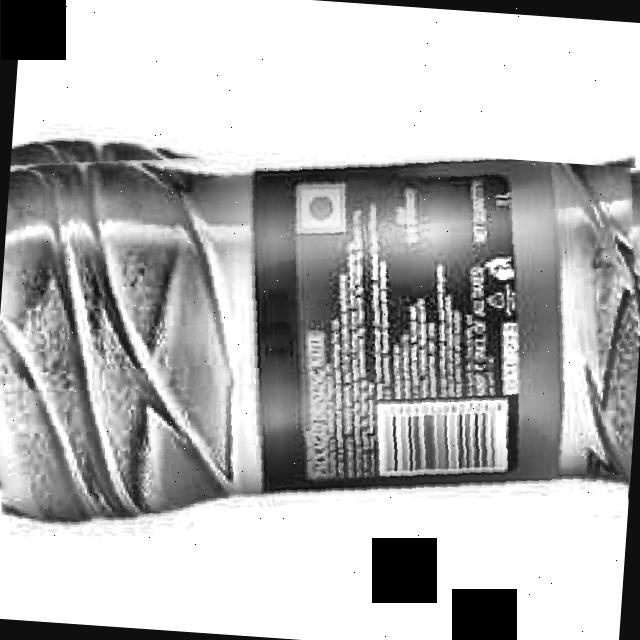bottle: (0, 123, 640, 568)
